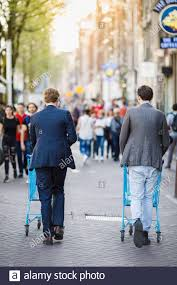Caution: (26, 85, 171, 252)
